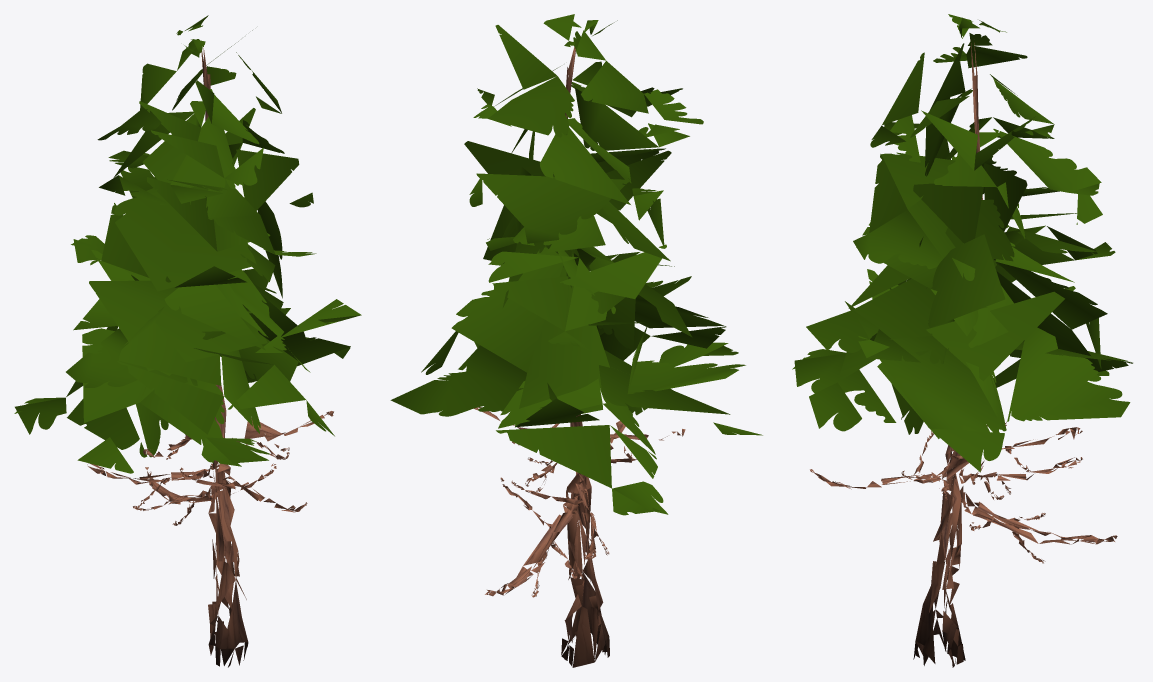
Rendered from Pine_1_lod1.glb.
3 renders of one model, left to right at view 1: azimuth 30°, elevation 25°; view 2: azimuth 150°, elevation 25°; view 3: azimuth 270°, elevation 25°, orthographic. The views are drawn at different scales.
Parts seen in each view (by area): view 1: Pine_1; view 2: Pine_1; view 3: Pine_1.
Boxes of the visible parts, x1,y1,x2,y2 form: Pine_1: (14,15,361,667); Pine_1: (390,14,762,667); Pine_1: (792,14,1132,667).
Size of the model in its own units: 3.62 by 7.26 by 3.56.
Materials: 2 (2 with a texture image).
